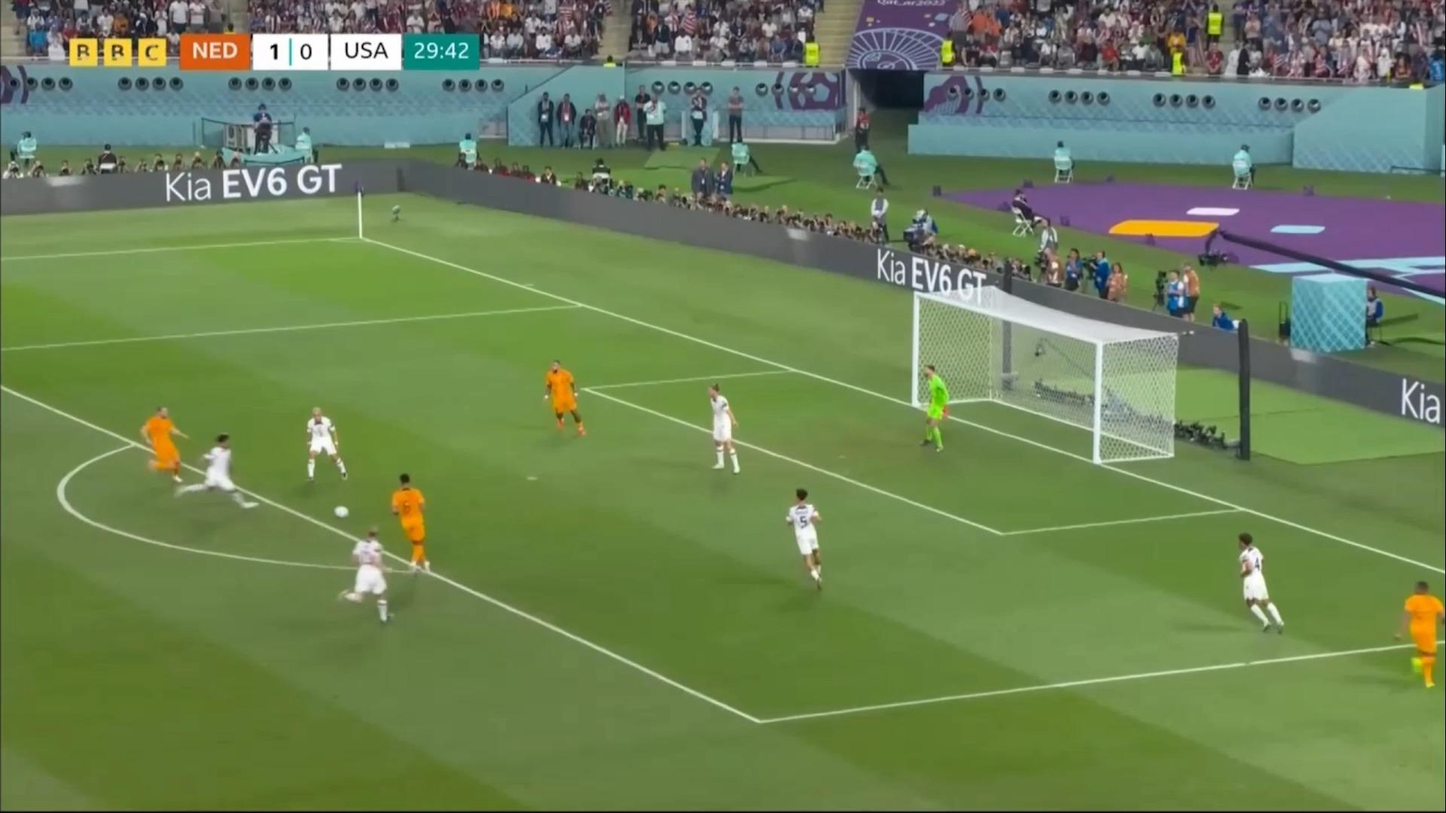Ball: (333, 502, 351, 520)
Player: (338, 525, 404, 625), (1392, 578, 1446, 692), (1227, 526, 1284, 633), (385, 473, 436, 581), (140, 406, 199, 494), (188, 430, 248, 516), (785, 488, 833, 591), (294, 402, 350, 487), (699, 382, 745, 478), (540, 358, 588, 441), (921, 364, 950, 454)
